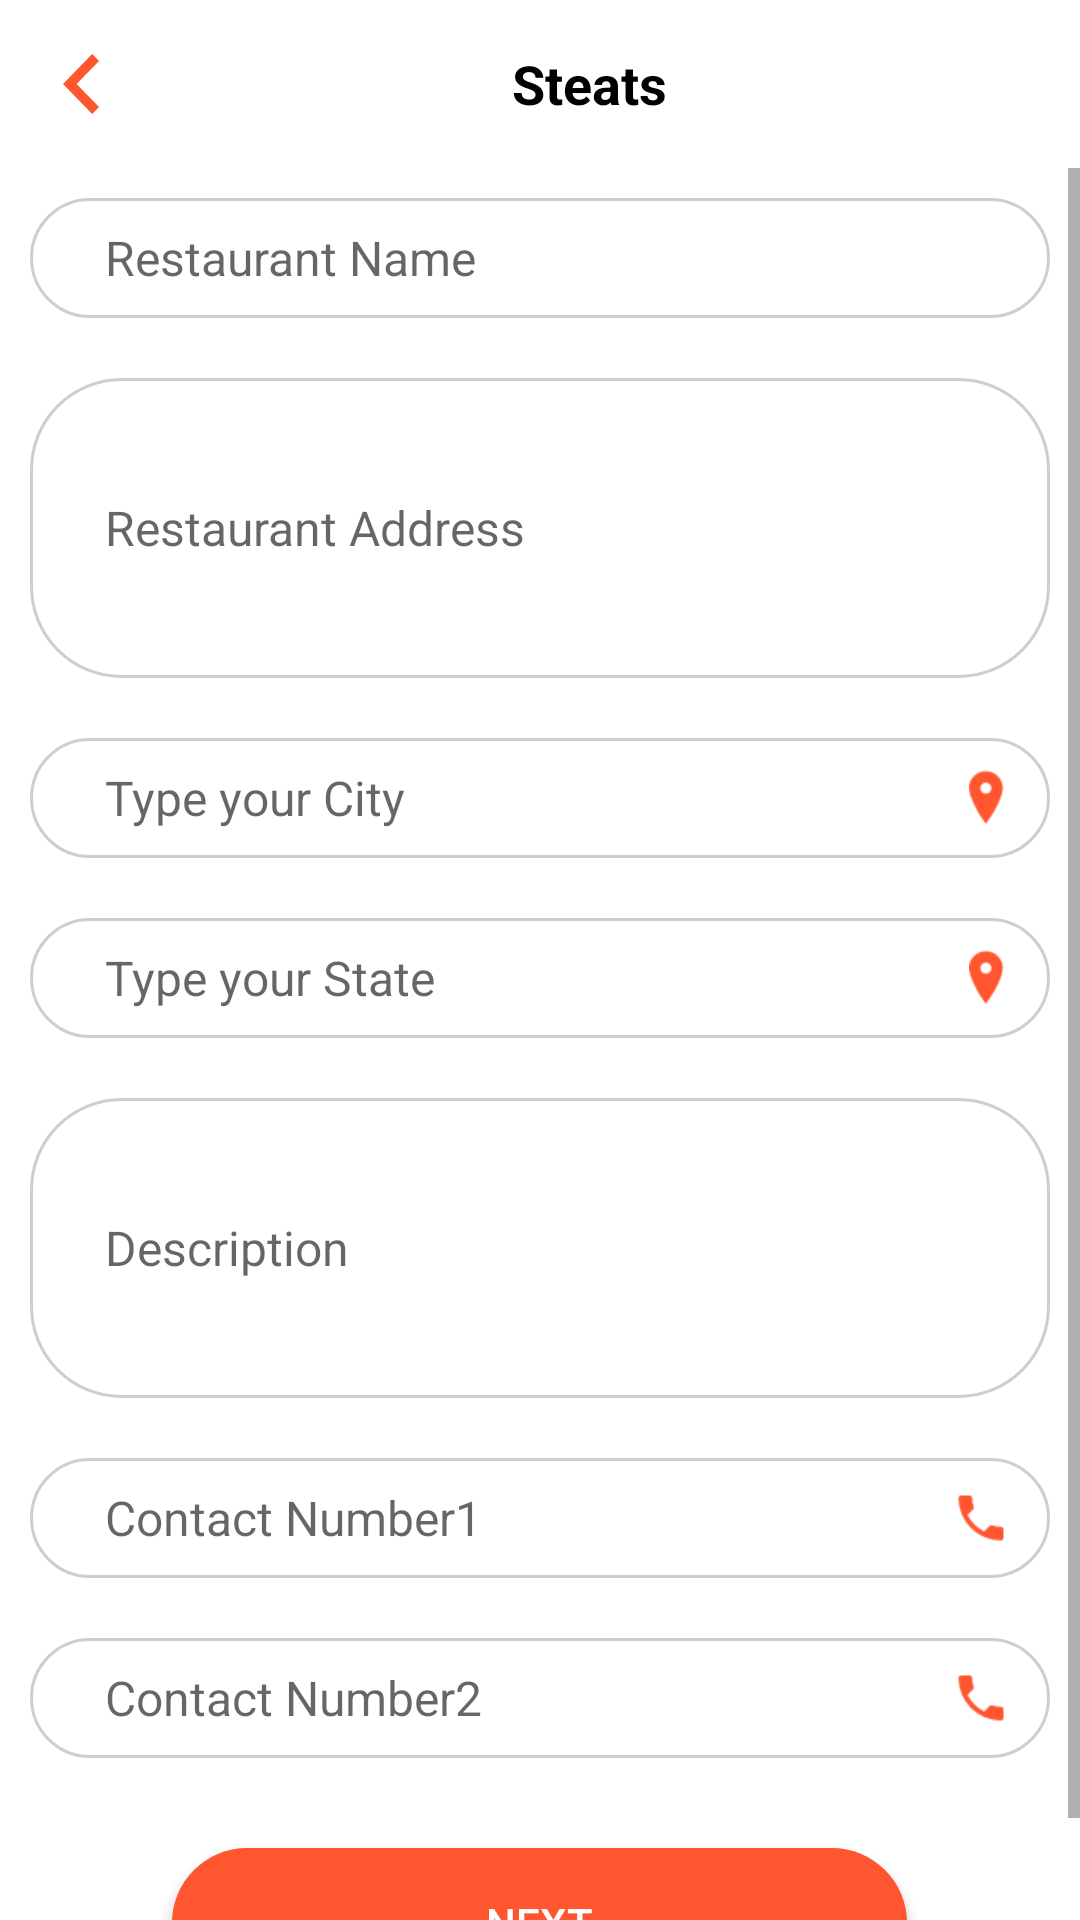

Icon bounding boxes for this 1080×1920 phone screenshot, format (x1, y1, x2, y2):
back: (63, 54, 99, 114)
